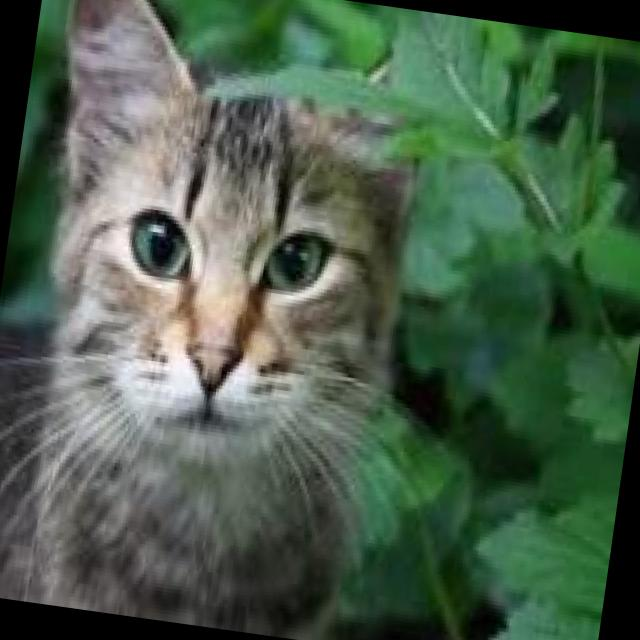Gato: (0, 0, 470, 640)
